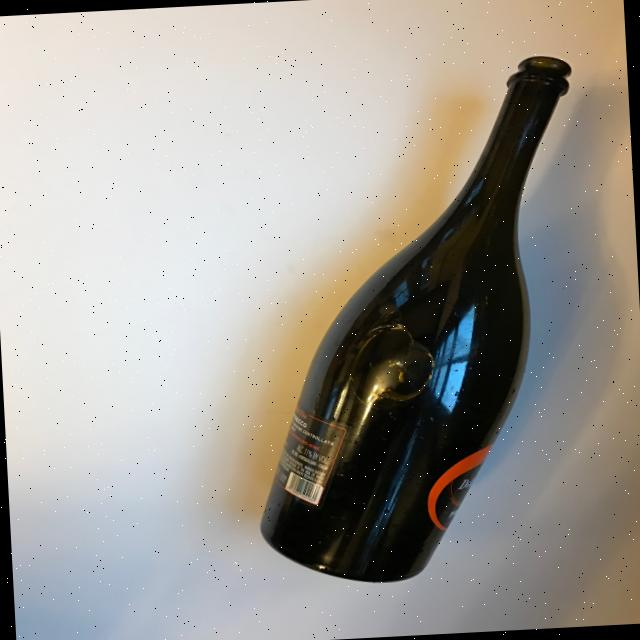glass: (235, 53, 598, 590)
